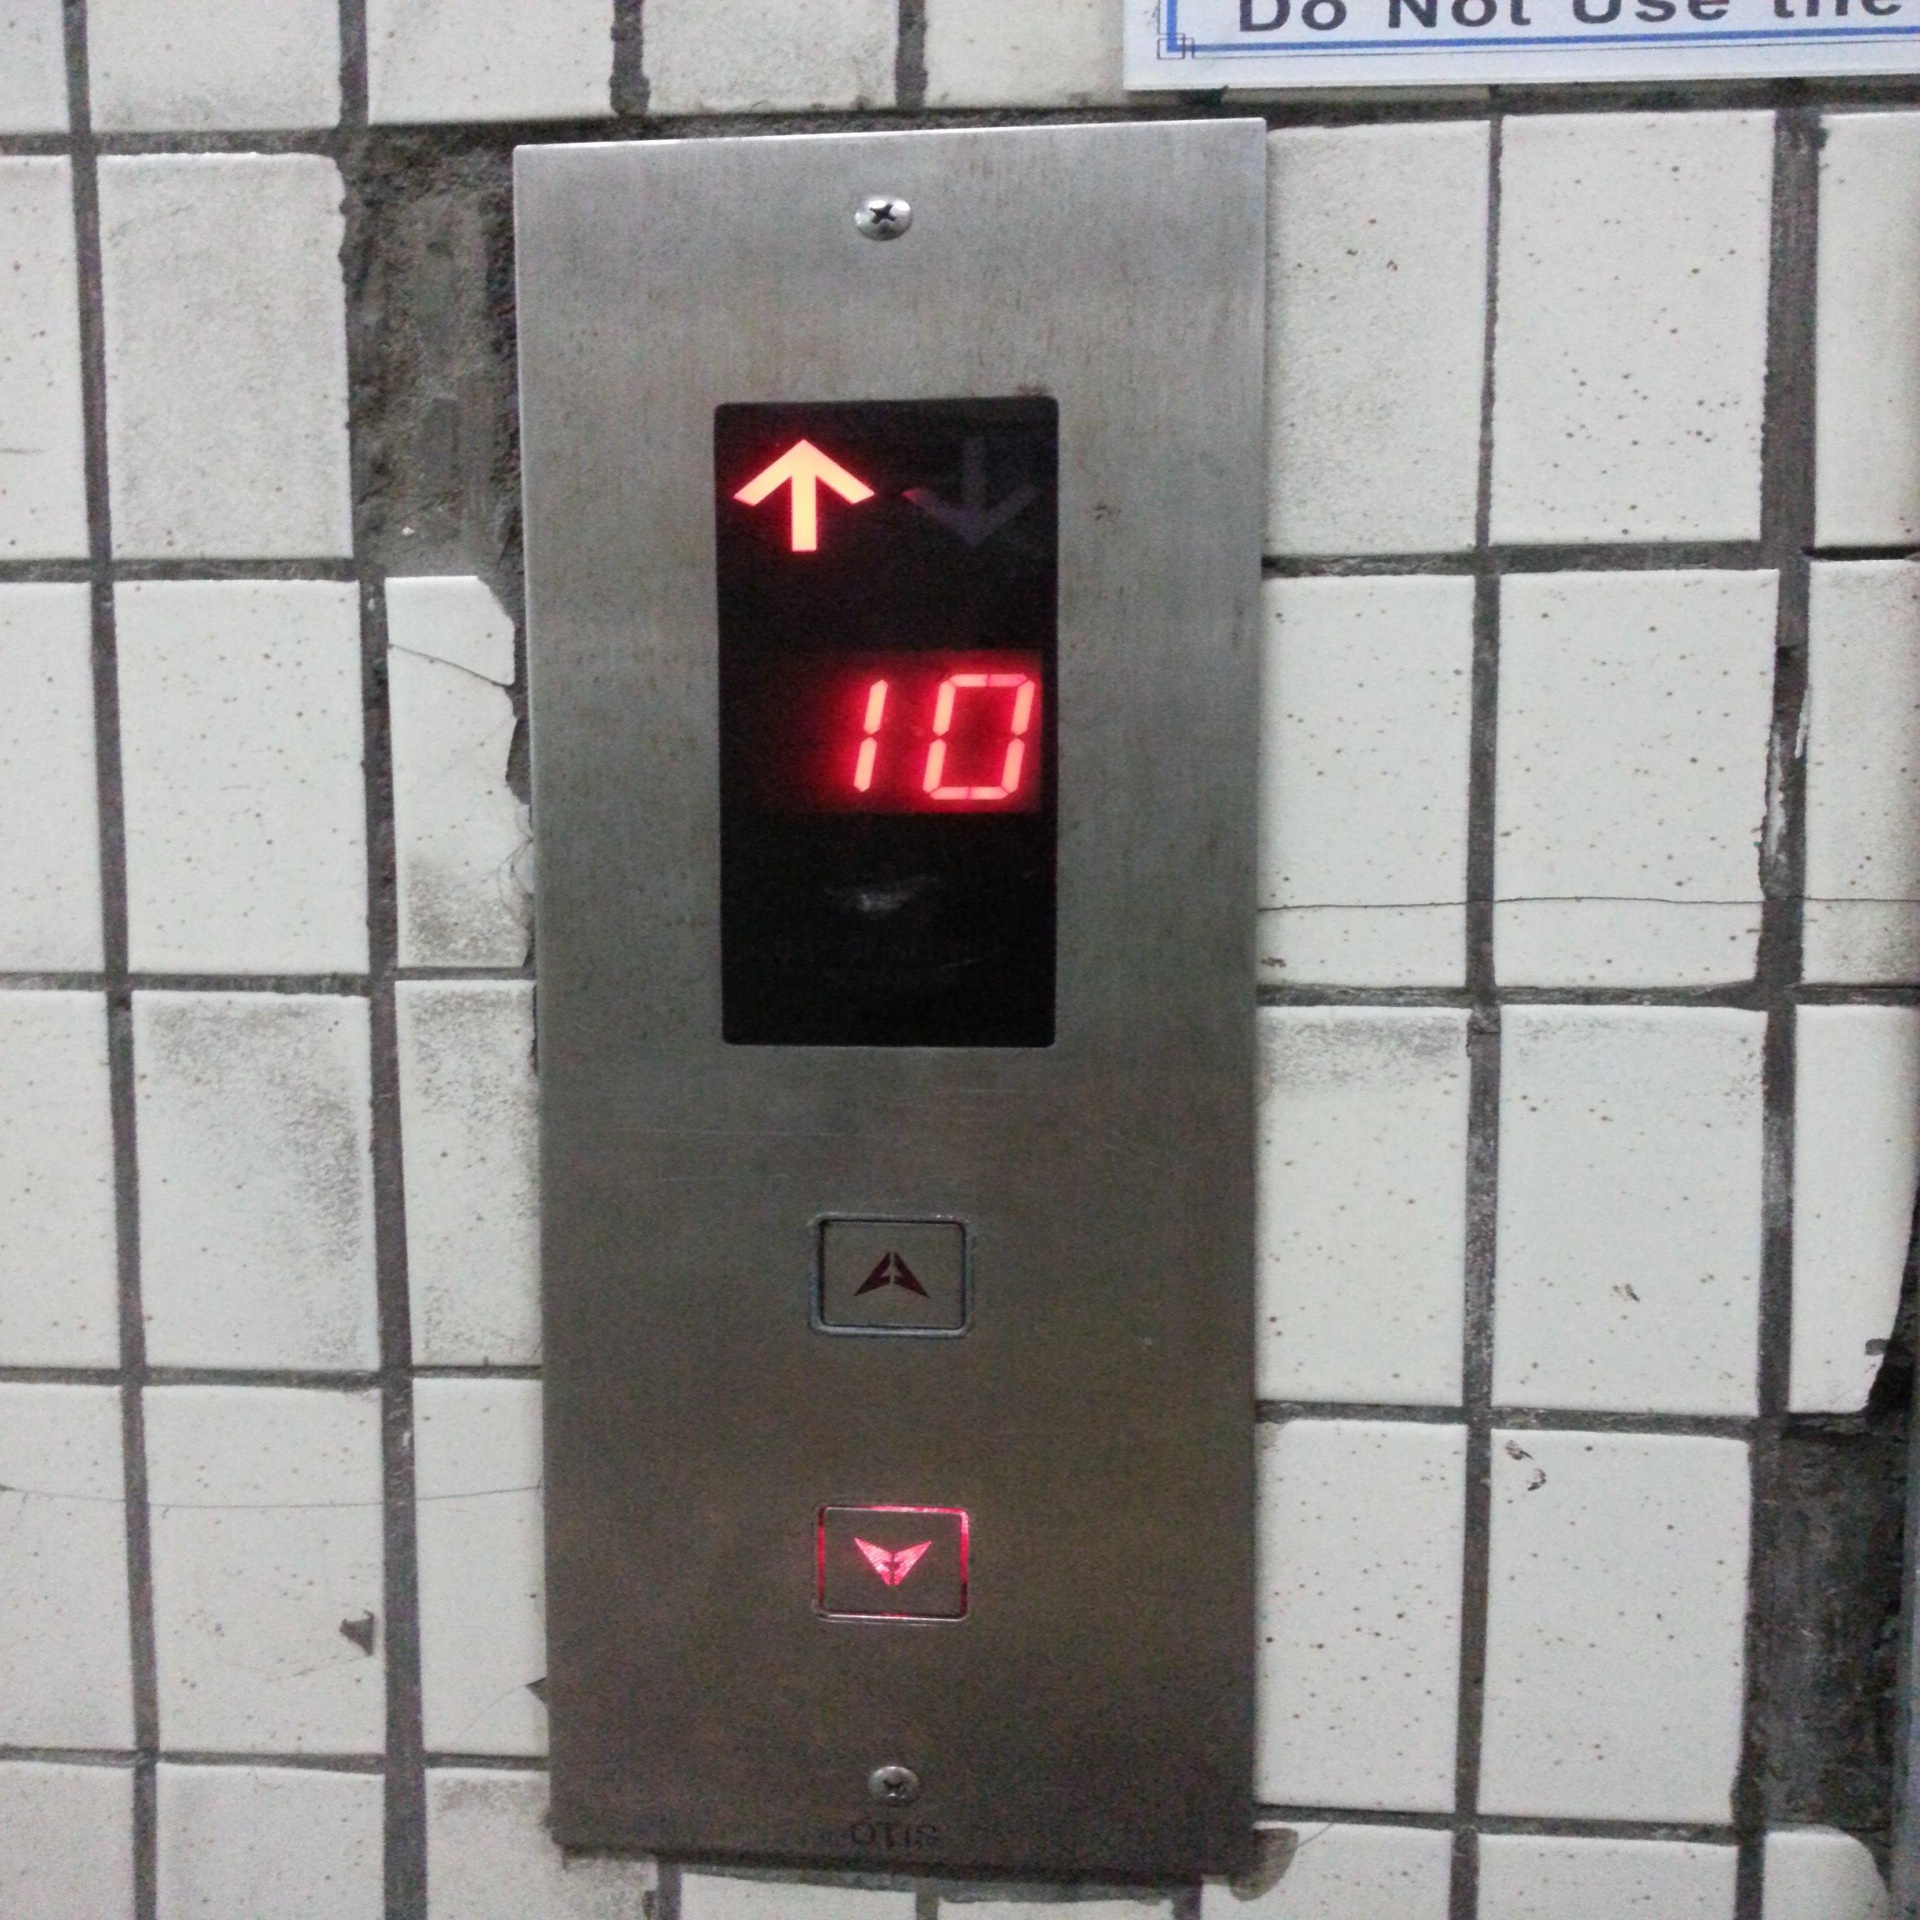down: (804, 1495, 979, 1635)
led: (702, 387, 1071, 1064)
up: (805, 1208, 979, 1349)
